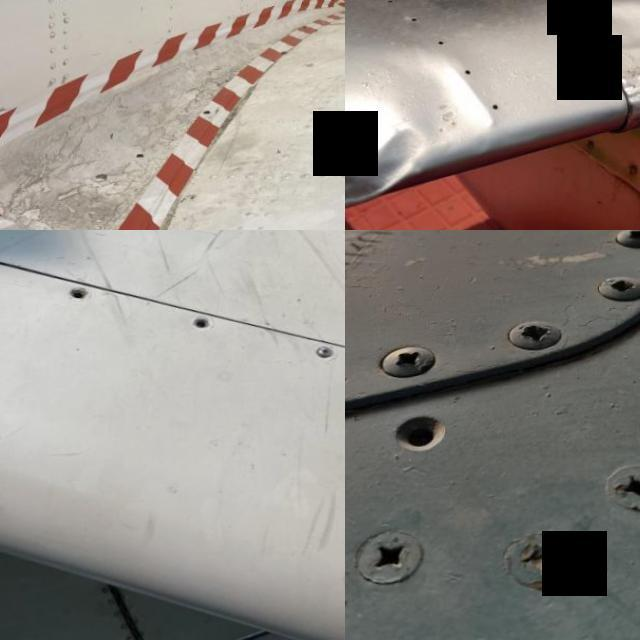Dent: (345, 103, 433, 230), (345, 0, 523, 32)
Missing_Fastener: (376, 389, 474, 483), (66, 286, 94, 304), (191, 316, 213, 336)
